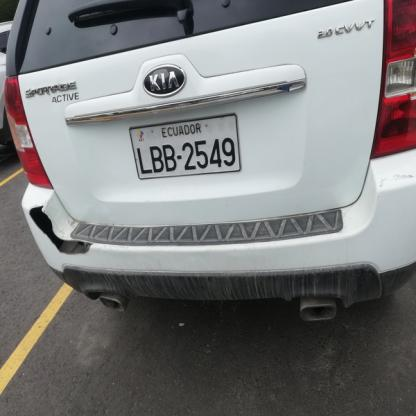Placa: (120, 111, 245, 181)
